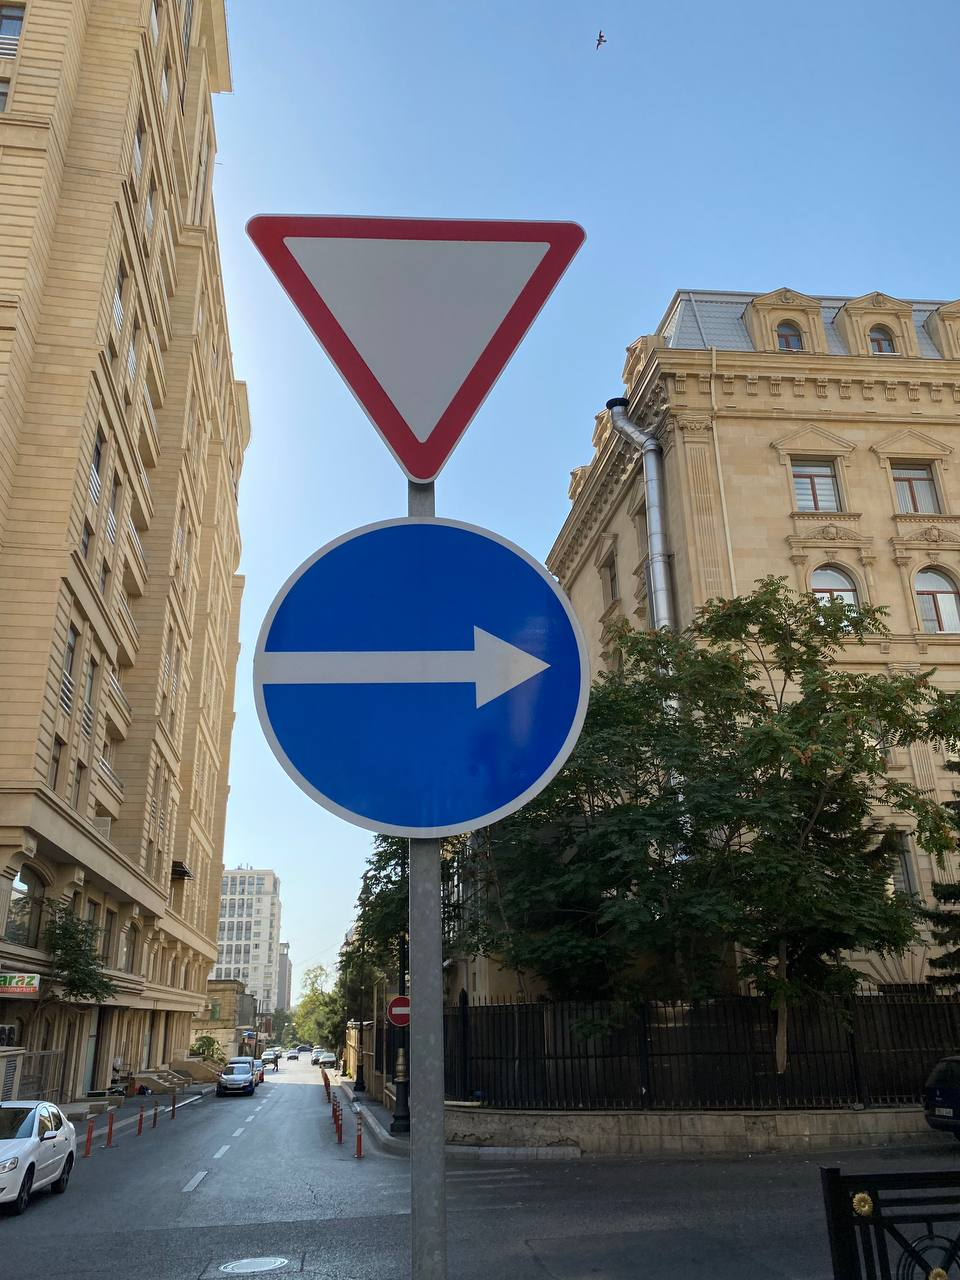Give Way: (244, 213, 588, 484)
Turn Right: (250, 516, 592, 839)
